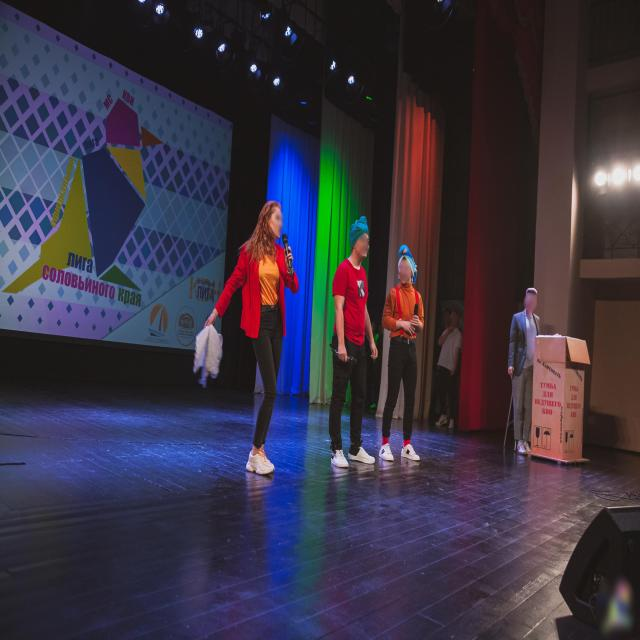Person: (235, 193, 292, 489), (374, 244, 439, 470), (332, 211, 377, 488), (510, 282, 548, 458), (433, 299, 472, 430)
